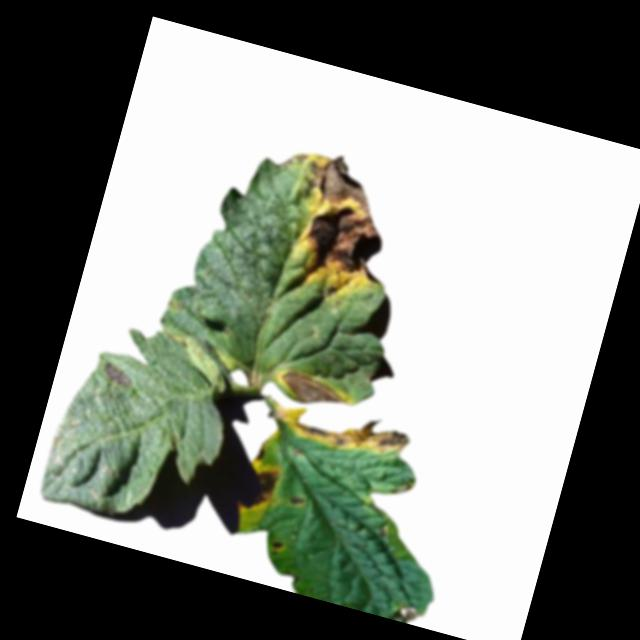Early_blight: (284, 150, 403, 289), (288, 397, 413, 469), (274, 367, 348, 409), (253, 466, 284, 503), (98, 362, 135, 389), (285, 493, 307, 509), (267, 540, 286, 555)
